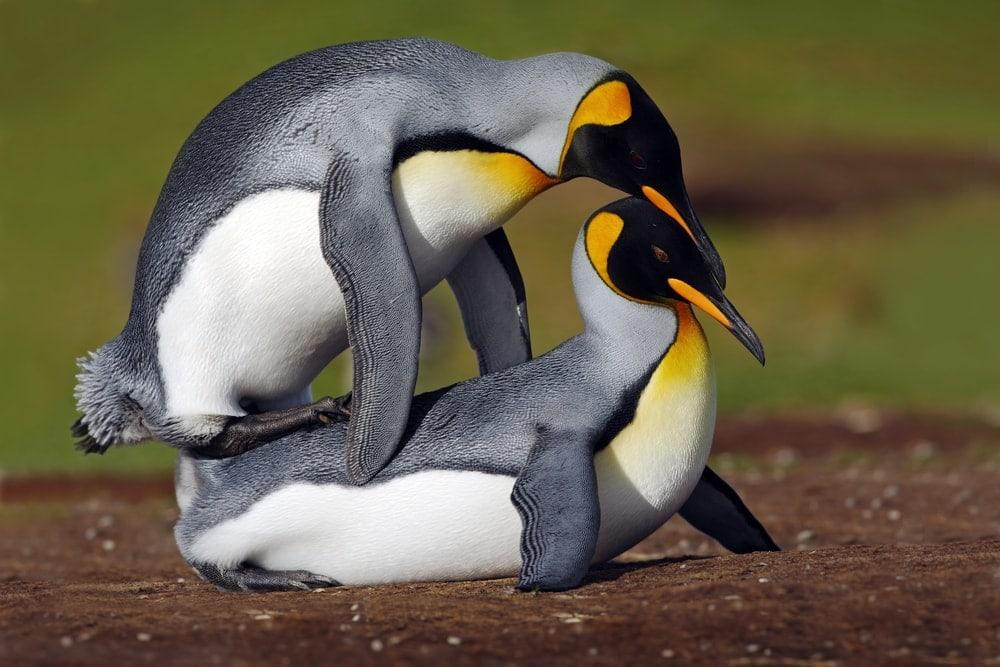king: (111, 199, 866, 621), (63, 9, 774, 446)
